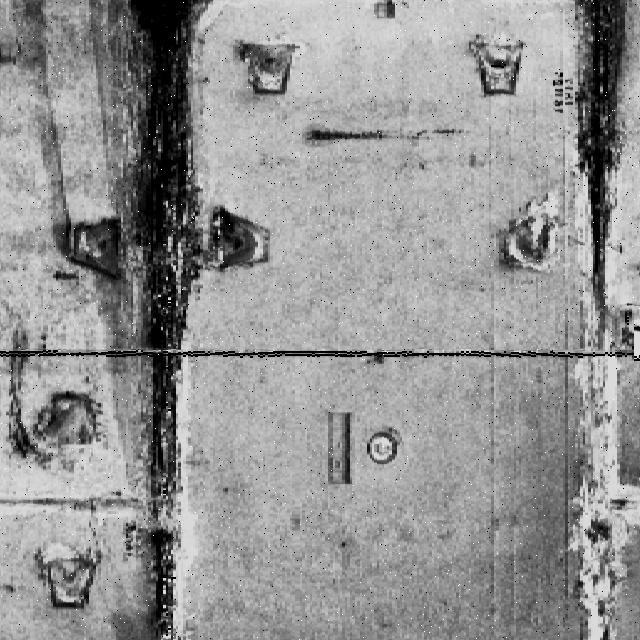leakage: (94, 1, 216, 638), (574, 0, 639, 633)
